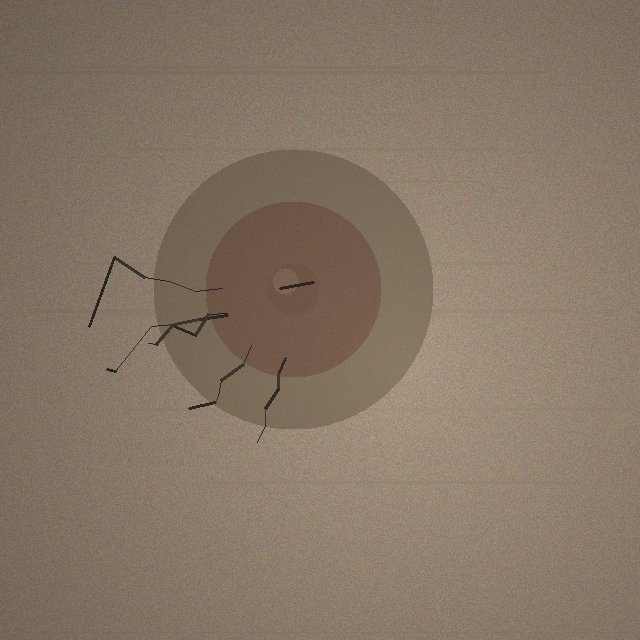crack: (153, 149, 433, 429)
